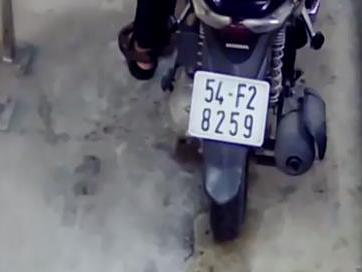num_plate: (186, 68, 269, 147)
